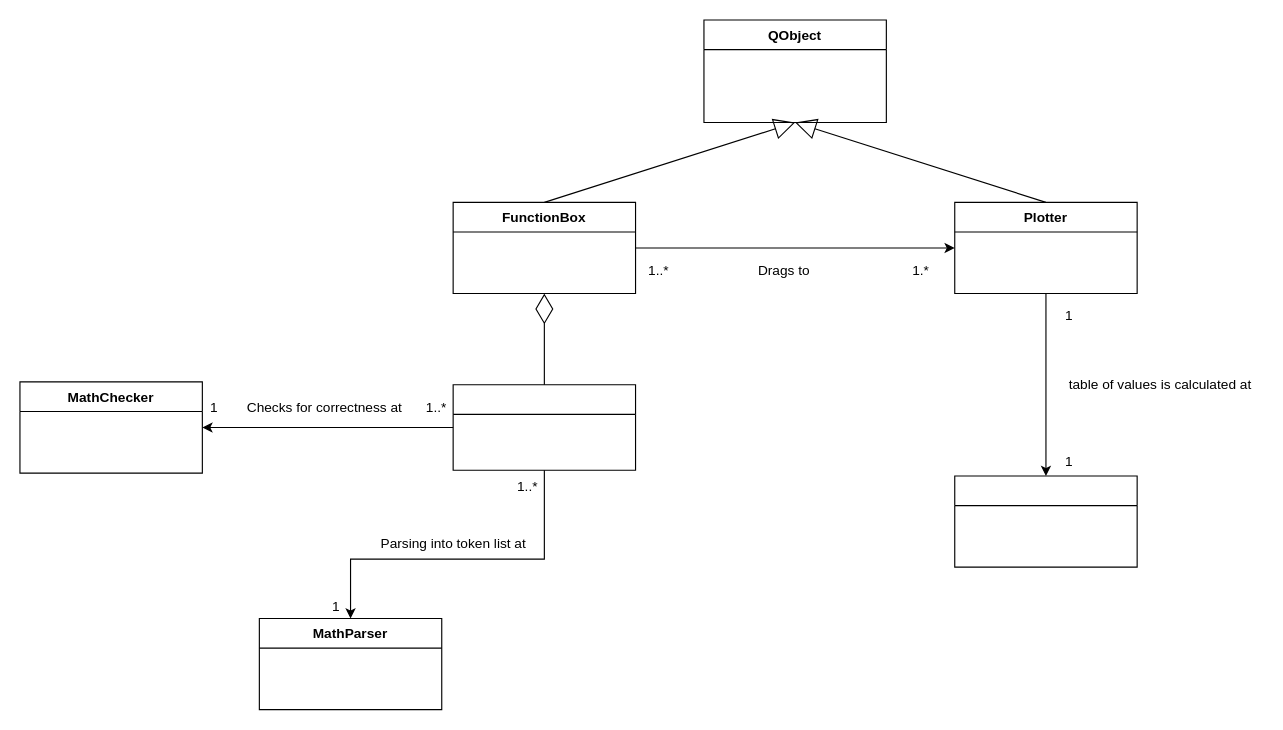
This 1283x730 diagram has some shape labels left out. The shapes that lost their labels are listed below. From the top down, each one's box as (x1, y1, x2, y2) in pixels, then its label:
(452, 384, 636, 470): MathExpression
(954, 475, 1137, 567): MathCalculator
